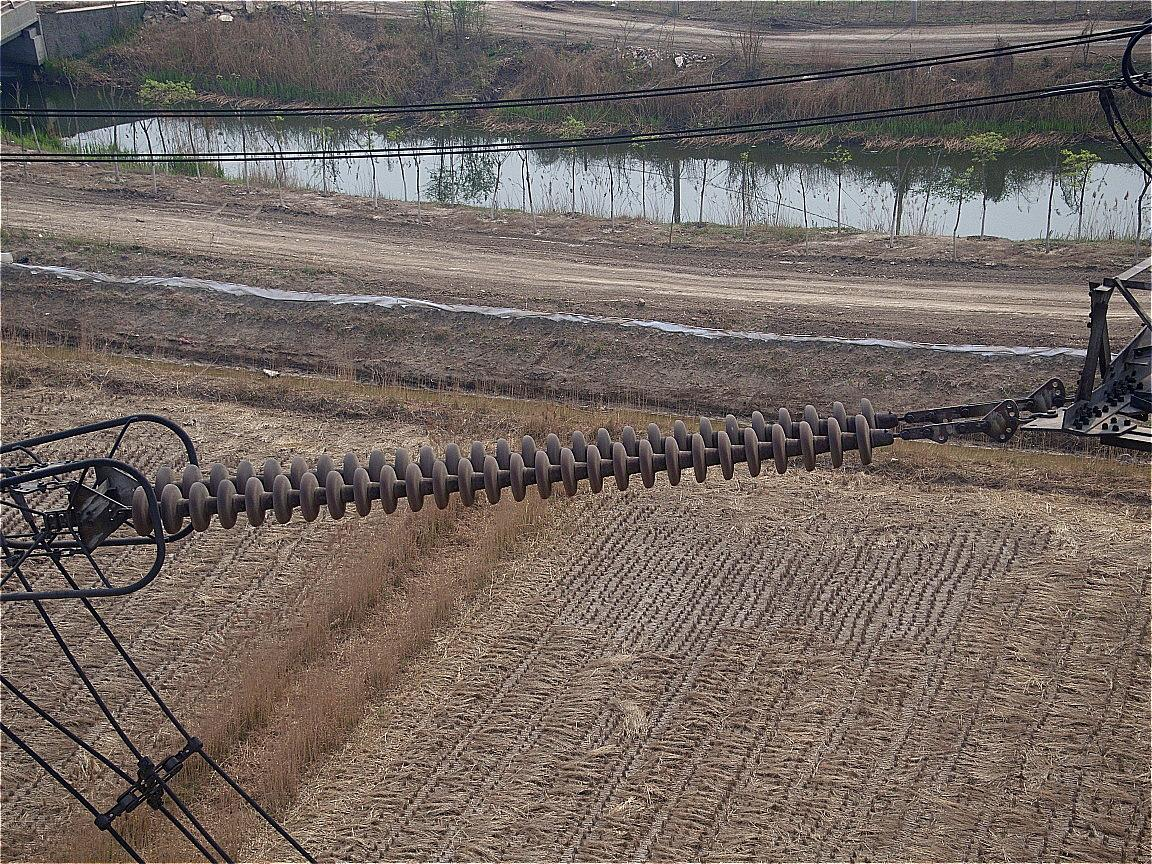insultor1: (133, 397, 878, 535)
